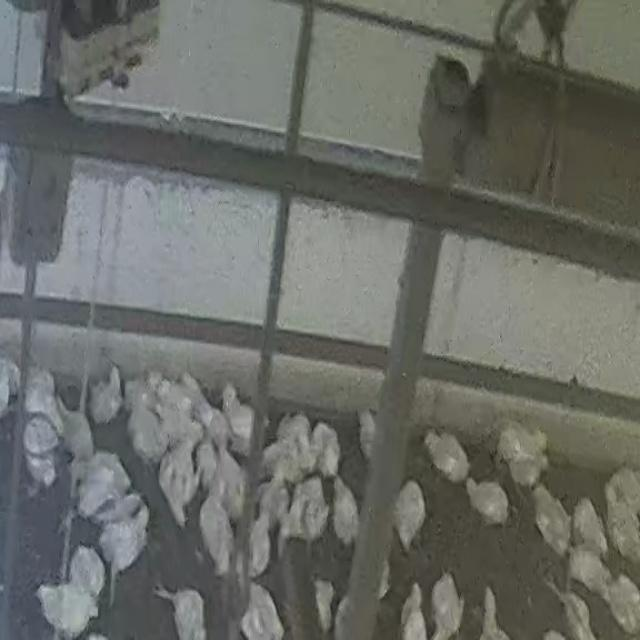chicken: (96, 496, 150, 578), (36, 581, 98, 637), (76, 458, 130, 522), (198, 488, 235, 578), (284, 476, 328, 546), (238, 581, 284, 640), (423, 425, 471, 481), (126, 396, 165, 464), (499, 429, 546, 484), (57, 402, 96, 467), (394, 480, 427, 553), (163, 442, 195, 514), (604, 467, 640, 530), (88, 365, 125, 426), (168, 586, 208, 640), (430, 572, 463, 637), (308, 419, 343, 480), (534, 488, 567, 552), (24, 374, 62, 428), (466, 476, 509, 522), (246, 506, 274, 576), (332, 476, 359, 547), (568, 545, 609, 591), (224, 396, 256, 452), (570, 498, 605, 548), (24, 449, 59, 492)
